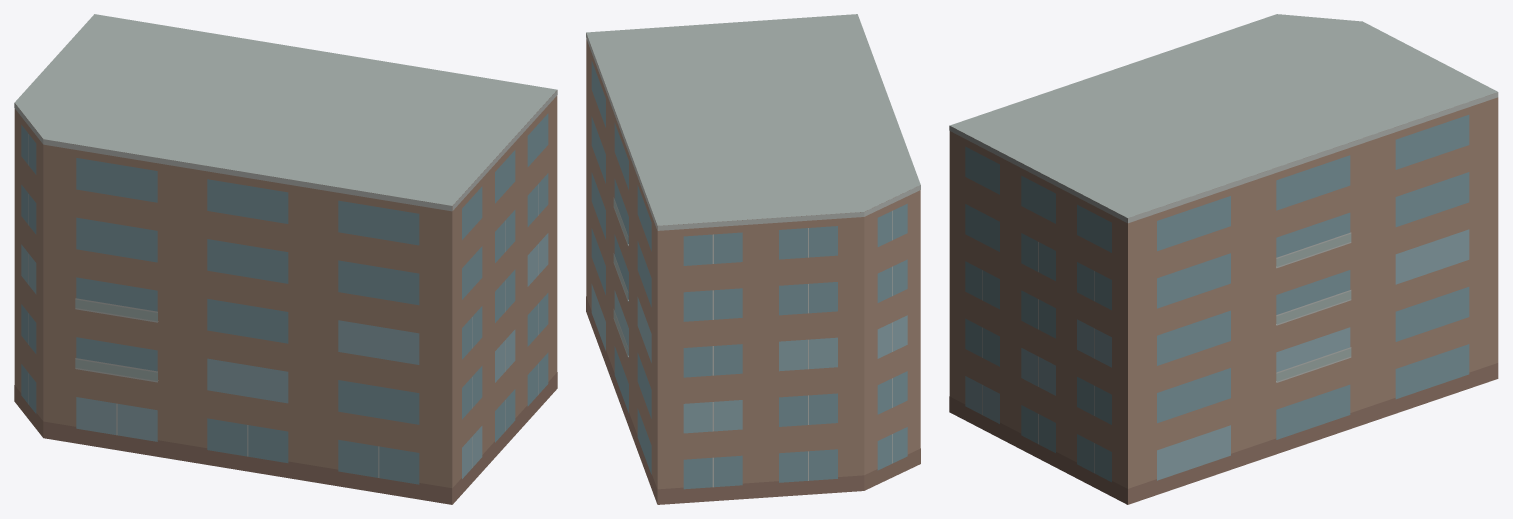
Rendered from survey-upis-32725017.glb.
The picture shows the model from 3 angles, left to right: view 1: azimuth 30°, elevation 25°; view 2: azimuth 150°, elevation 25°; view 3: azimuth 270°, elevation 25°; orthographic projection. The views are drawn at different scales.
Visible parts, largest first — view 1: survey-upis-32725017.tmp; view 2: survey-upis-32725017.tmp; view 3: survey-upis-32725017.tmp.
Boxes of the visible parts, <box> form: survey-upis-32725017.tmp: <box>14,14,557,504</box>; survey-upis-32725017.tmp: <box>586,14,920,504</box>; survey-upis-32725017.tmp: <box>949,14,1498,504</box>.
Bounding box in the file's own units: 20.4 × 13.35 × 23.17.
